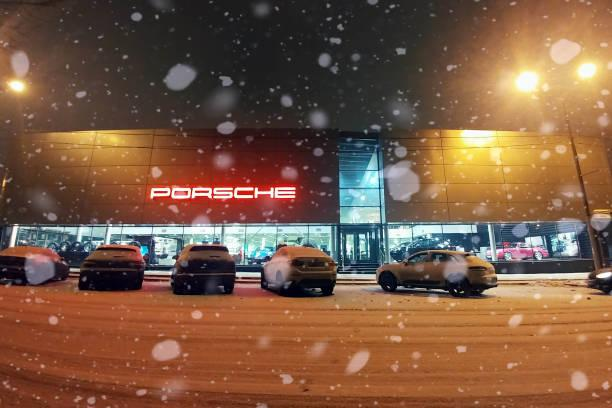porsche: (148, 183, 300, 206)
